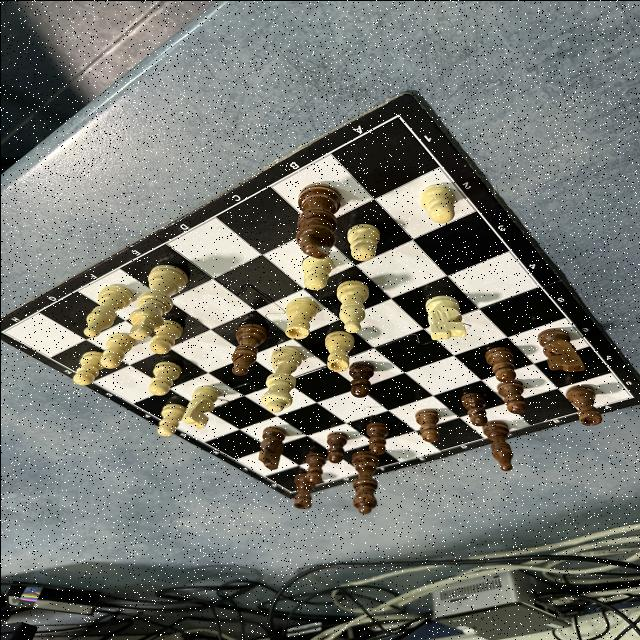Black-Bishop: (230, 322, 266, 375), (480, 418, 512, 471)
Black-King: (294, 182, 342, 259)
Black-Knight: (536, 328, 584, 372), (258, 426, 286, 470)
Black-Pawn: (483, 346, 515, 382), (496, 378, 526, 414), (459, 392, 487, 426), (348, 361, 374, 396), (414, 408, 439, 442), (365, 421, 387, 454), (304, 451, 326, 483), (325, 430, 347, 462)
Black-Queen: (351, 450, 378, 514)
Black-Rook: (564, 384, 602, 426), (292, 472, 315, 508)
White-Bishop: (82, 284, 133, 337), (335, 278, 369, 332)
White-King: (127, 264, 187, 339)
White-Knight: (424, 294, 466, 340), (180, 384, 220, 428)
White-Pawn: (418, 183, 454, 223), (98, 332, 134, 368), (346, 222, 380, 260), (148, 318, 182, 354), (147, 360, 181, 395), (300, 253, 332, 290), (72, 350, 104, 384), (156, 402, 185, 436)
White-Queen: (259, 346, 303, 412)
White-Rook: (284, 297, 318, 339), (322, 329, 354, 372)
